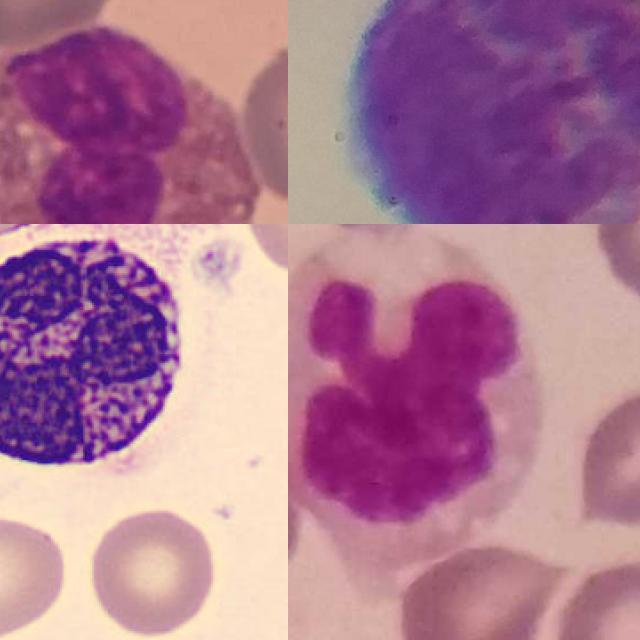Basophil: (342, 0, 640, 224), (0, 224, 200, 493)
Eosinophil: (0, 28, 260, 224)
Monocyte: (288, 231, 544, 520)
RBC: (83, 502, 220, 640), (0, 502, 76, 640)
